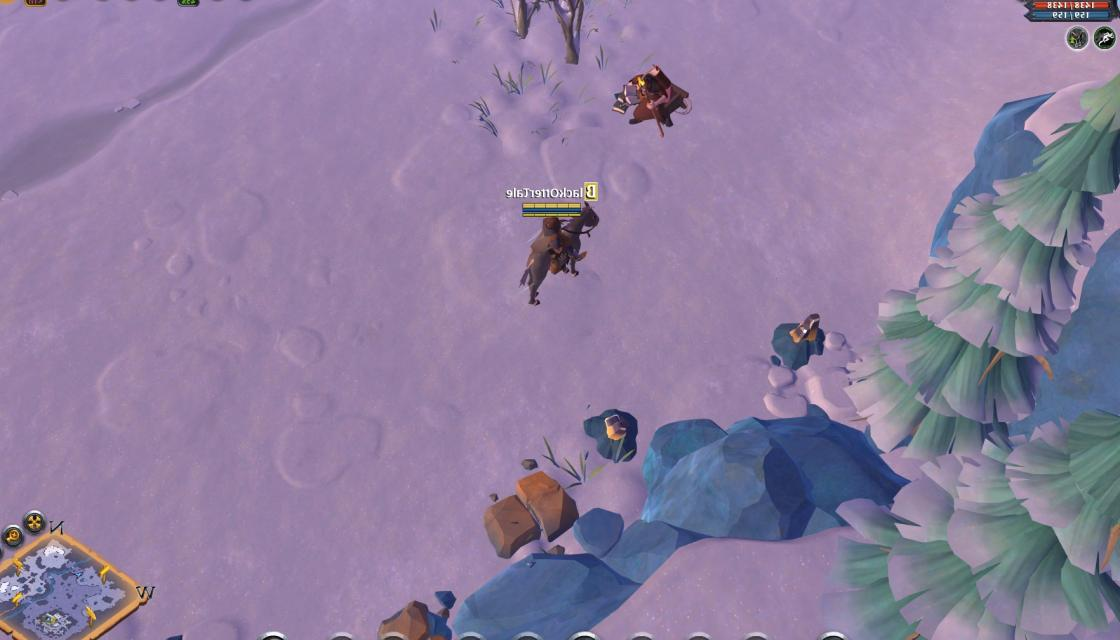copperore: (767, 312, 829, 371), (583, 406, 642, 461)
limestone: (484, 472, 579, 560), (362, 602, 456, 640)
tinore: (128, 629, 200, 640)
